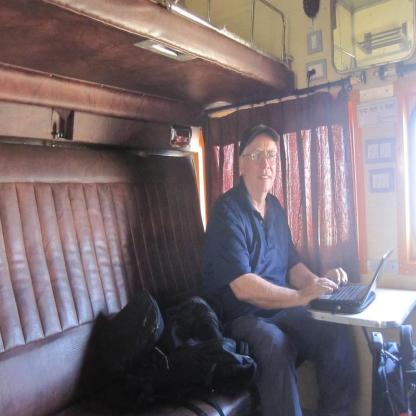board: (309, 246, 394, 311)
